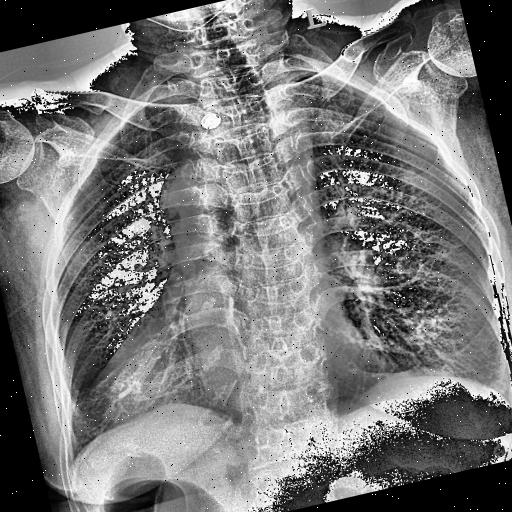5- ILD: (294, 77, 512, 431)
9- Other lesion: (2, 110, 394, 476), (16, 123, 368, 484), (36, 126, 370, 460), (183, 102, 229, 142)
